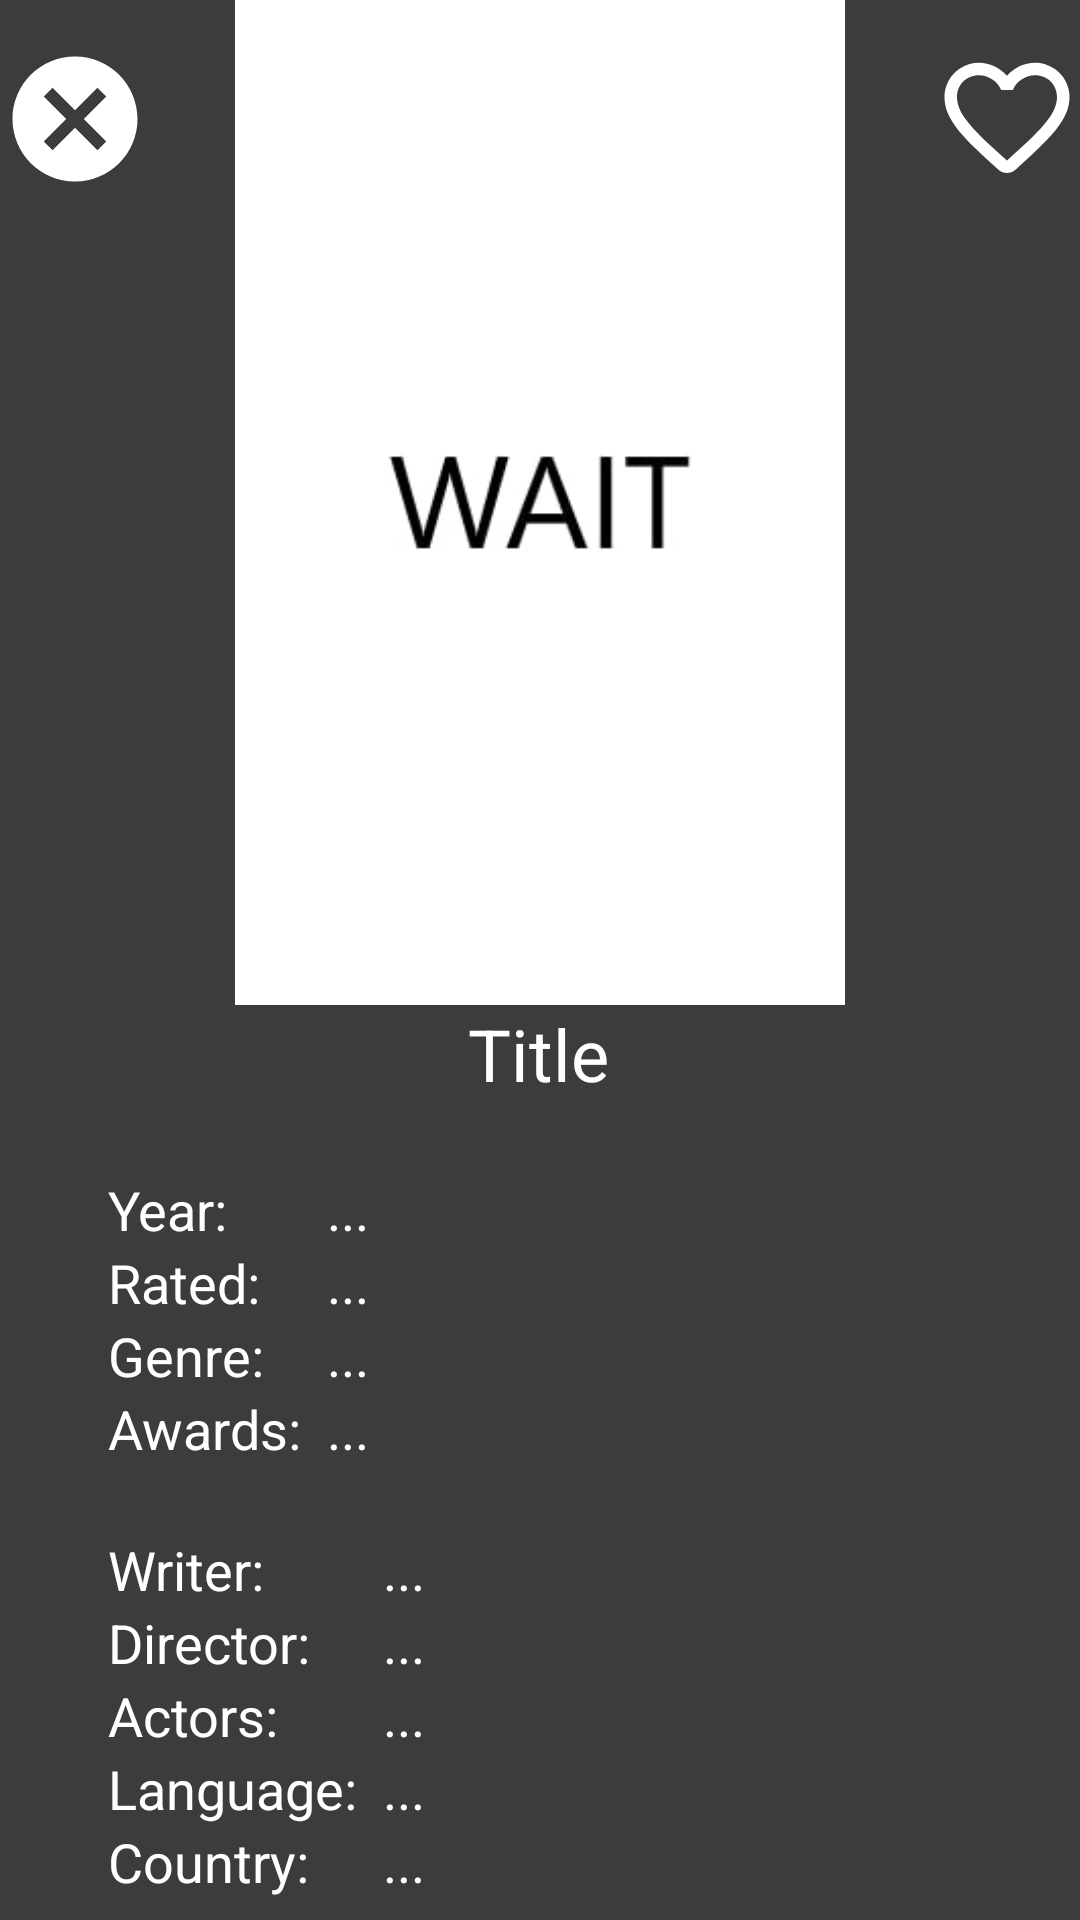

Icons on this 1080w x 1920h Android screen, each with its box as (x1=x1, y1=y1, x2=x2, y2=y2):
cancel: (x1=12, y1=56, x2=138, y2=182)
favorite: (x1=944, y1=62, x2=1070, y2=173)
